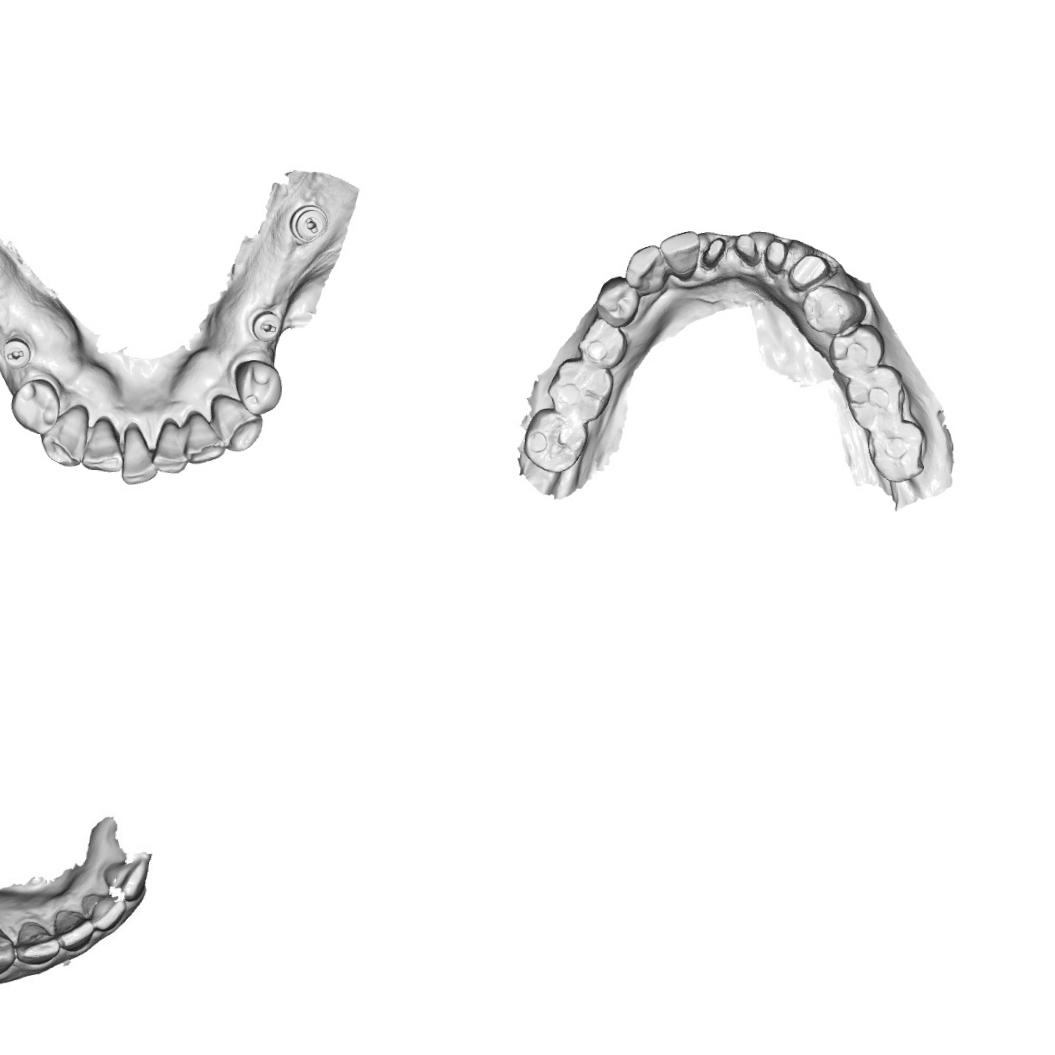canine: (206, 392, 264, 453), (38, 402, 90, 468), (620, 241, 672, 301), (0, 914, 14, 978)
crown: (784, 248, 832, 292), (758, 235, 792, 279), (701, 230, 732, 274), (732, 232, 766, 272)
implant_minus: (286, 202, 329, 246), (247, 309, 282, 342), (0, 334, 32, 370)
incisor: (13, 914, 63, 976), (98, 848, 152, 900), (656, 225, 704, 283), (182, 406, 228, 464), (120, 420, 160, 486), (80, 414, 125, 472), (150, 415, 190, 473), (79, 890, 127, 936), (54, 910, 98, 955)
molar: (518, 404, 591, 476), (542, 354, 616, 425), (842, 361, 910, 433), (862, 417, 927, 488)
premolar: (796, 282, 868, 340), (824, 324, 886, 382), (7, 376, 62, 436), (574, 314, 628, 372), (232, 358, 284, 416), (592, 272, 642, 328)
